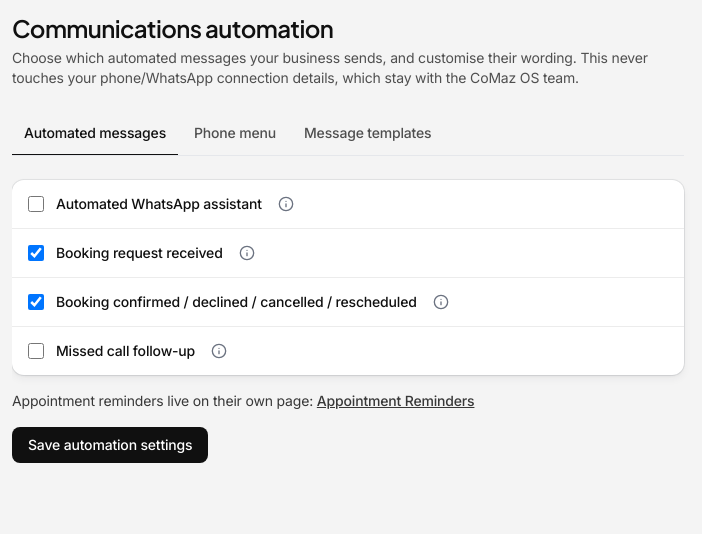
Scenario: CommunicationsAutomationSettings › shows a specific message on a 403 rather than a generic error
Click the button "Save automation settings": [110, 445] box [12,427,208,463]
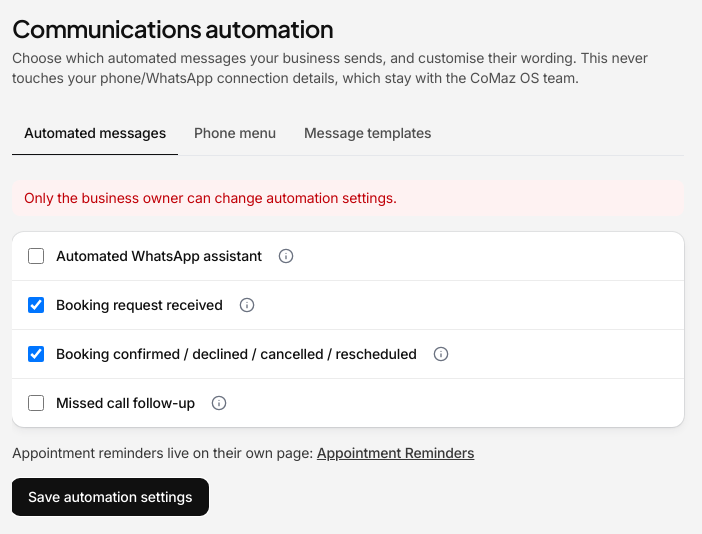
Now the text "Only the business owner can change automation settings." is shown, box [12,180,684,216]
